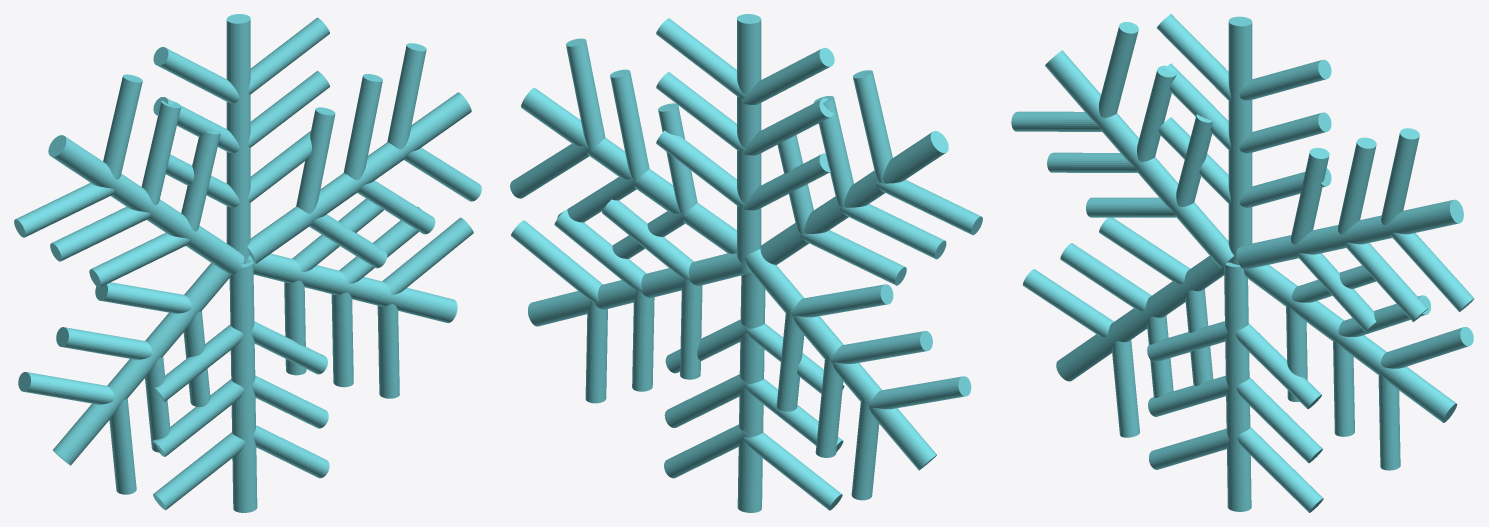
File: kessho.fbx
3 renders of one model, left to right at view 1: azimuth 30°, elevation 25°; view 2: azimuth 150°, elevation 25°; view 3: azimuth 330°, elevation 25°, orthographic. The views are drawn at different scales.
Visible parts, largest first — view 1: 円柱.002; view 2: 円柱.002; view 3: 円柱.002.
Part boxes in pixels (x1=…): 円柱.002: x1=14, y1=14, x2=481, y2=512; 円柱.002: x1=510, y1=14, x2=982, y2=512; 円柱.002: x1=1011, y1=14, x2=1474, y2=512.
Size of the model in its own units: 392 by 396 by 22.24.
